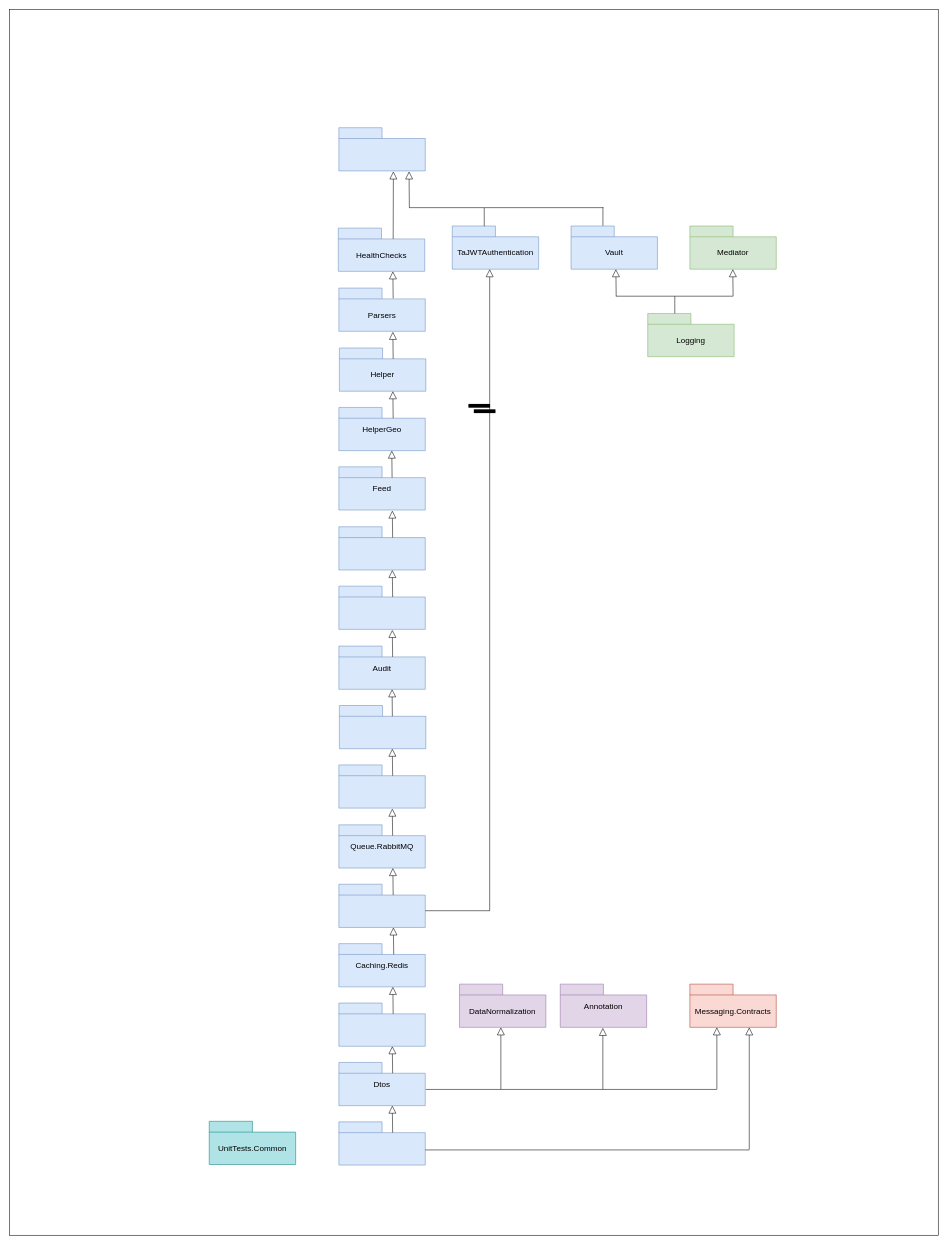
The diagram is 948 pixels wide and 1245 high, and some of its shapes have lost their labels. The shapes that lost their labels are listed below. From the top down, each one's box as (x1, y1, x2, y2) in pixels, then its label:
(338, 127, 425, 171): Middleware
(338, 526, 425, 570): Proxy
(338, 586, 425, 629): DAL
(339, 705, 426, 749): Audit.Producer
(338, 764, 425, 808): Queue.MassTransit
(338, 884, 425, 927): Services.Common
(338, 1003, 425, 1046): Http
(338, 1121, 425, 1165): Contracts.Common
